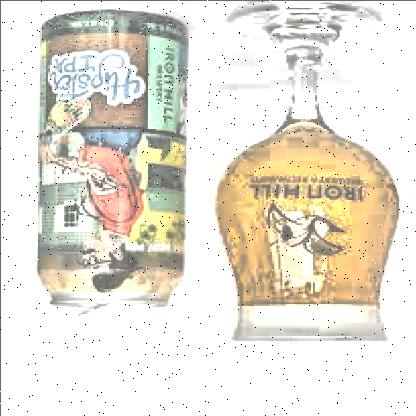Can: (34, 2, 192, 322)
